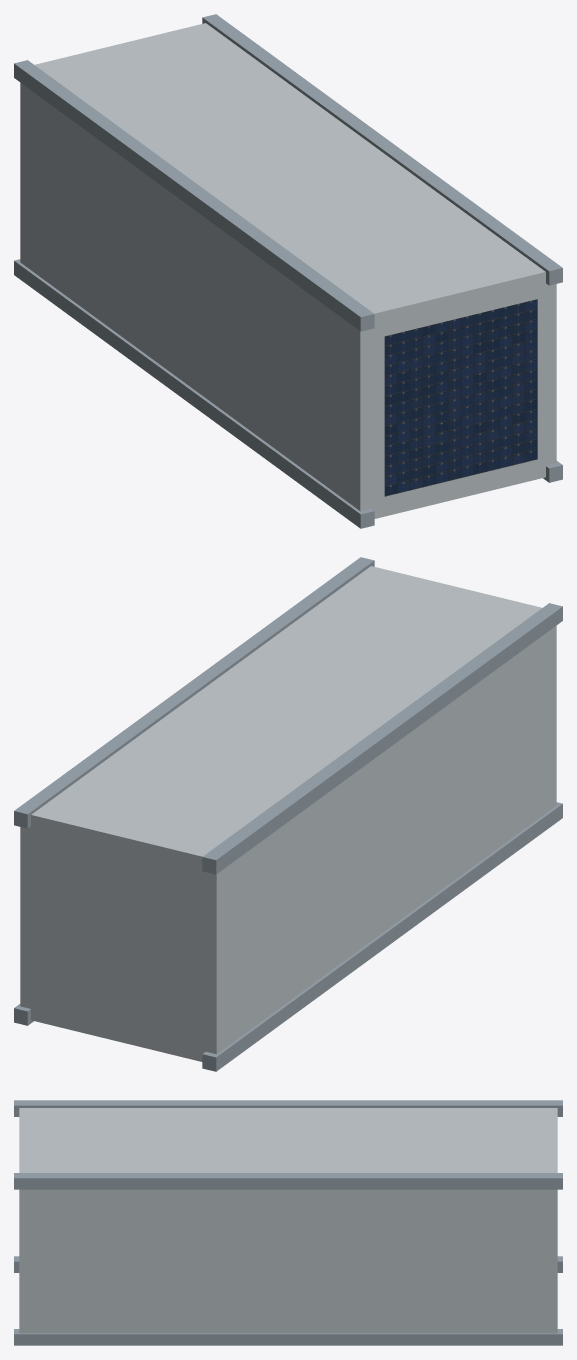
Rendered from ref-cubesat-65589.glb.
3 renders of one model, top to bottom at view 1: azimuth 30°, elevation 25°; view 2: azimuth 150°, elevation 25°; view 3: azimuth 270°, elevation 25°, orthographic. The views are drawn at different scales.
Visible parts, largest first — view 1: Spacecraft body, Body-mounted cells, Dispenser rail (×3); view 2: Spacecraft body, Dispenser rail (×3); view 3: Spacecraft body, Dispenser rail (×3).
Part boxes in pixels (box(x1,y1,x2,y2)): Spacecraft body: box(20, 23, 556, 518); Body-mounted cells: box(384, 299, 537, 496); Dispenser rail (×3): box(14, 14, 562, 528); Spacecraft body: box(20, 566, 556, 1061); Dispenser rail (×3): box(14, 557, 562, 1071); Spacecraft body: box(19, 1108, 557, 1333); Dispenser rail (×3): box(14, 1100, 562, 1345).
Size of the model in its own units: 0.103 by 0.103 by 0.306.
Materials: 3 (1 with a texture image).
